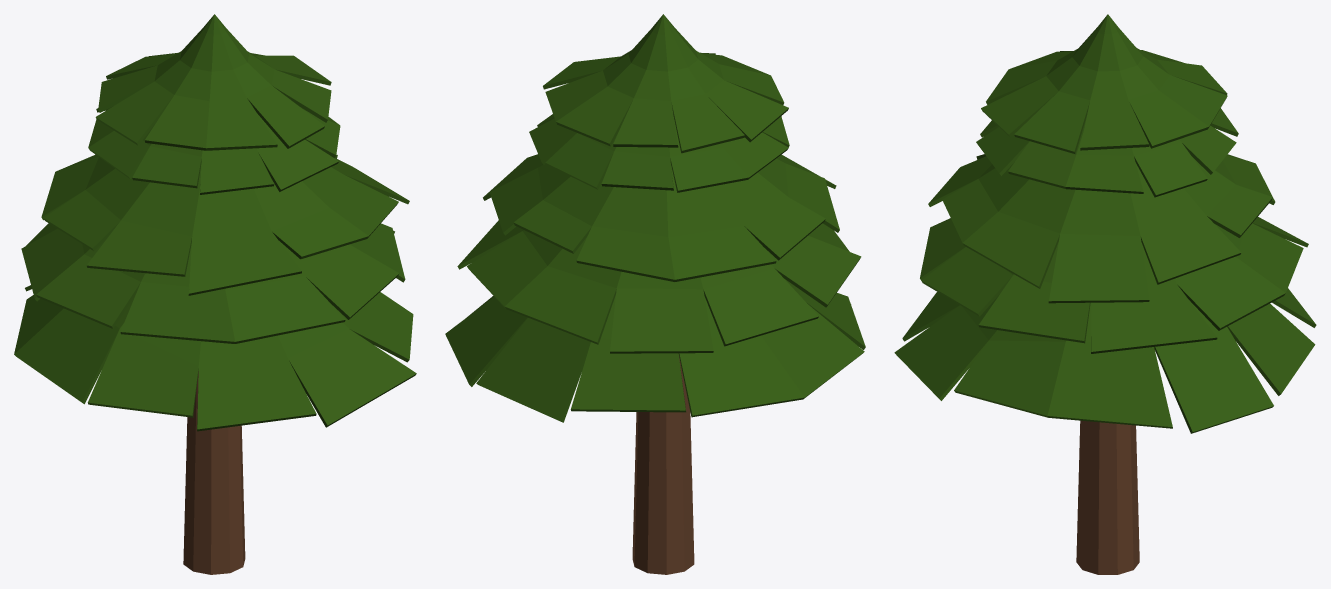
The model's file is pine3correct.fbx.
3 renders of one model, left to right at view 1: azimuth 30°, elevation 25°; view 2: azimuth 150°, elevation 25°; view 3: azimuth 270°, elevation 25°, orthographic.
Visible parts, largest first — view 1: Circle.004; view 2: Circle.004; view 3: Circle.004.
Part boxes in pixels (box(x1,y1,x2,y2)): Circle.004: box(14, 14, 416, 574); Circle.004: box(445, 14, 865, 574); Circle.004: box(894, 14, 1316, 574).
Size of the model in its own units: 206 by 310 by 216.
